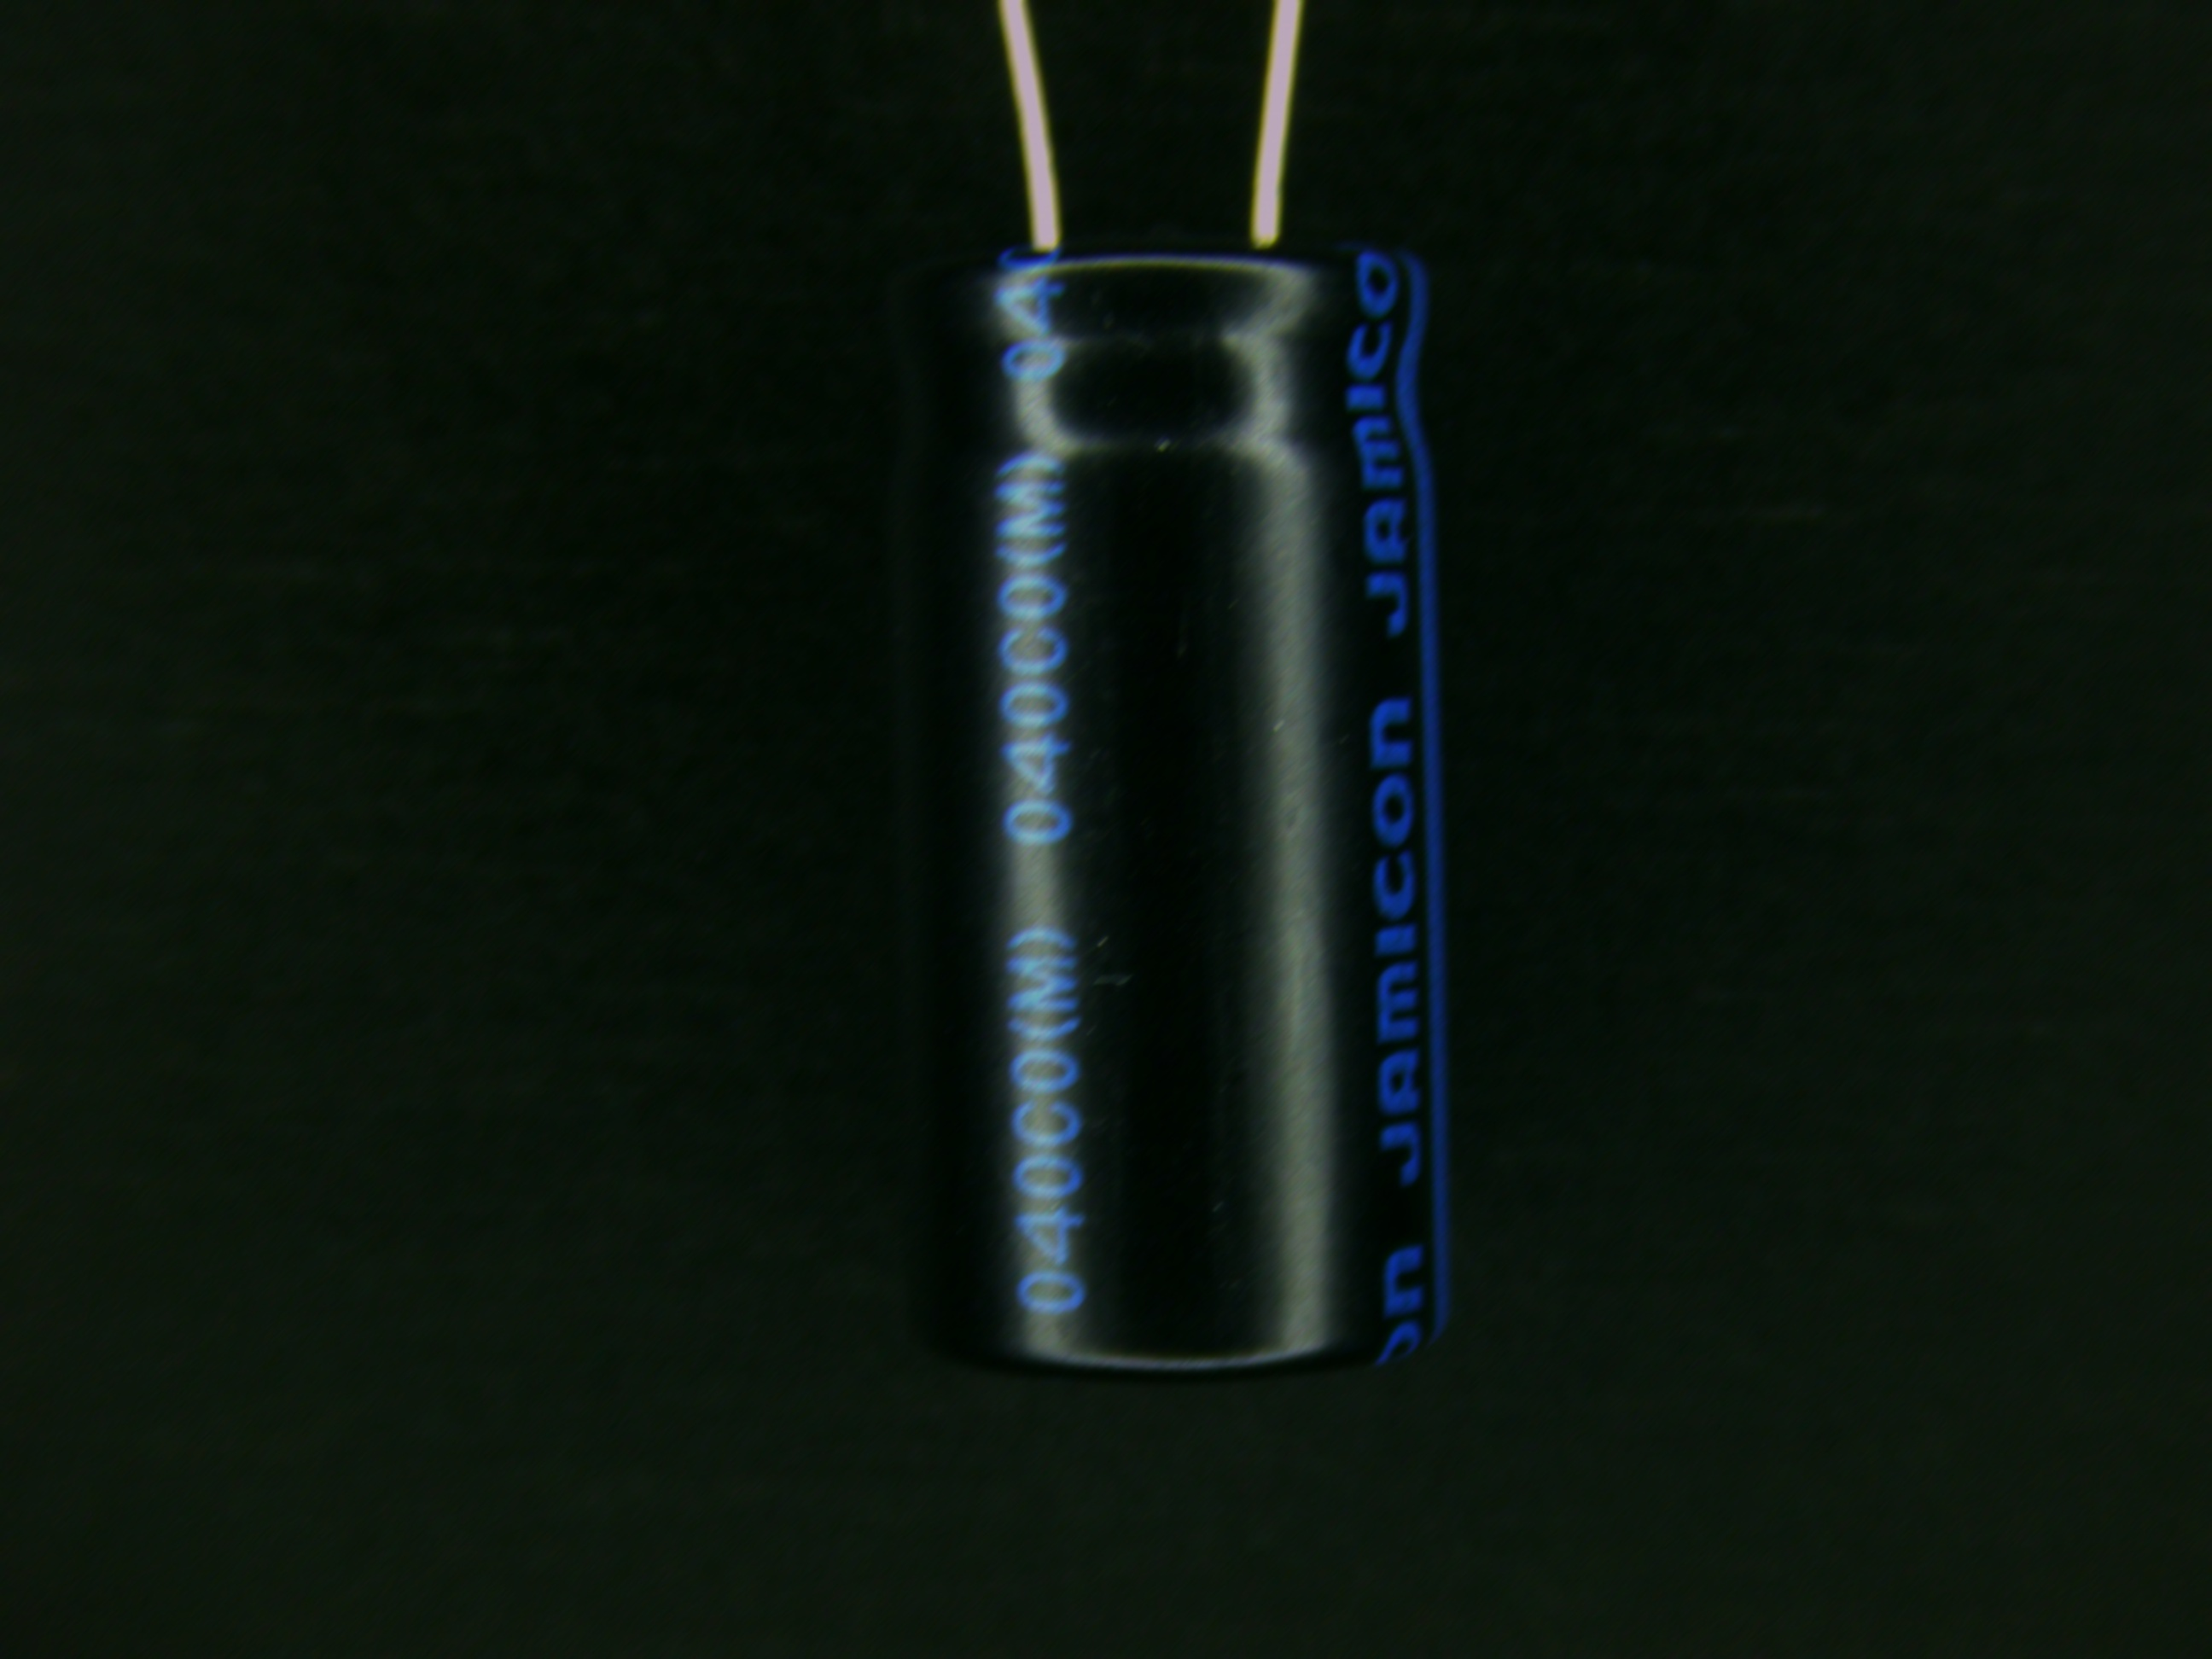c2: (883, 169, 1458, 1385)
